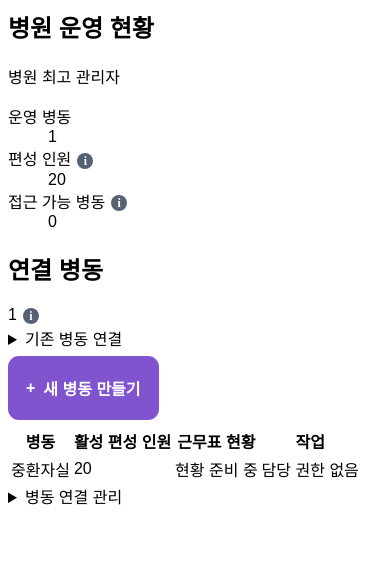
it: hospital owner disconnection › allows owner disconnection for an operational MANAGED affiliation
Click the heading "병동 연결 관리" at {"x": 74, "y": 498}, box [25,489,122,506]
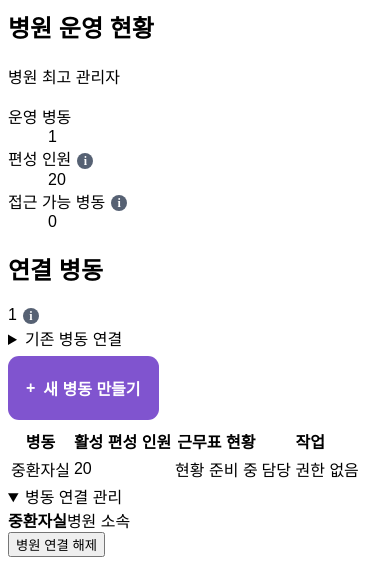
Check: the button "병원 연결 해제" is shown, box [8,532,105,557]
